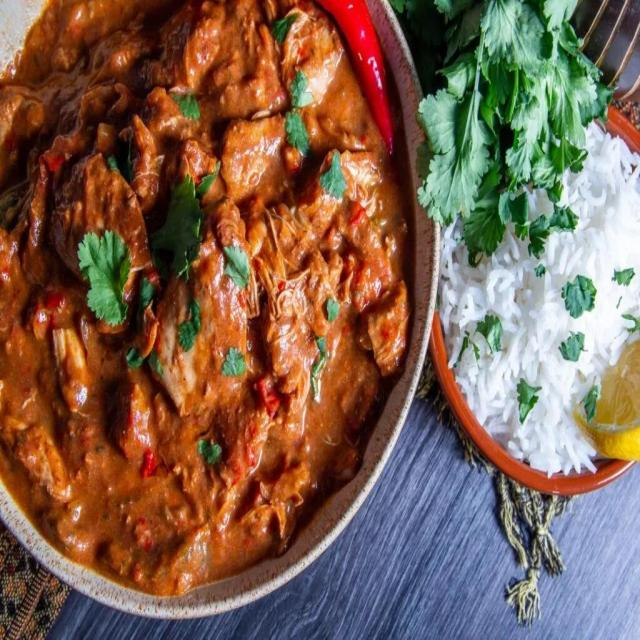chicken: (0, 0, 408, 580)
rice: (442, 108, 640, 467)
